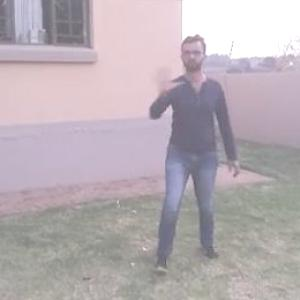follow_hand: (148, 56, 178, 94)
